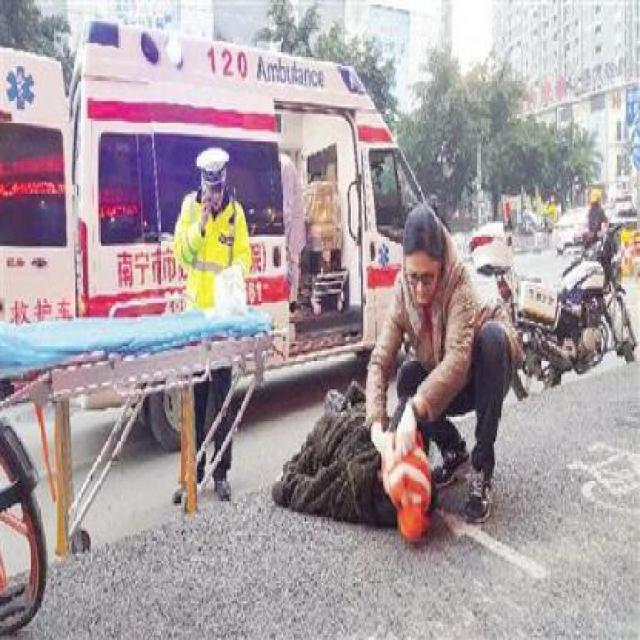fall: (260, 372, 451, 538)
